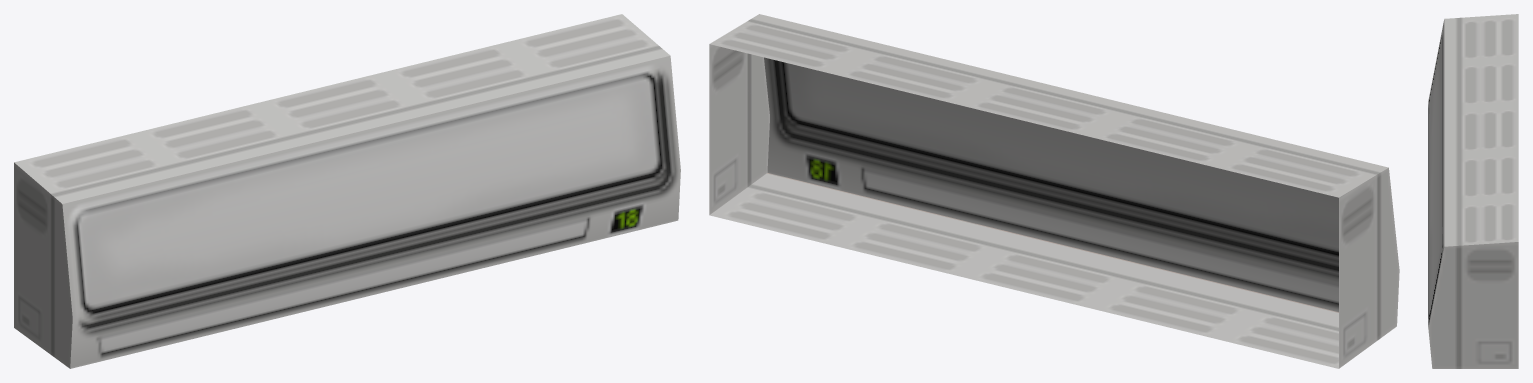
3 views of the same model, side by side, from view 1: azimuth 30°, elevation 25°; view 2: azimuth 150°, elevation 25°; view 3: azimuth 270°, elevation 25° (orthographic). The views are drawn at different scales.
Parts seen in each view (by area): view 1: pCube473; view 2: pCube473; view 3: pCube473.
Boxes of the visible parts, x1,y1,x2,y2 form: pCube473: (14, 14, 680, 368); pCube473: (709, 14, 1399, 368); pCube473: (1428, 14, 1518, 368).
Size of the model in its own units: 2.5 by 0.65 by 0.418.
